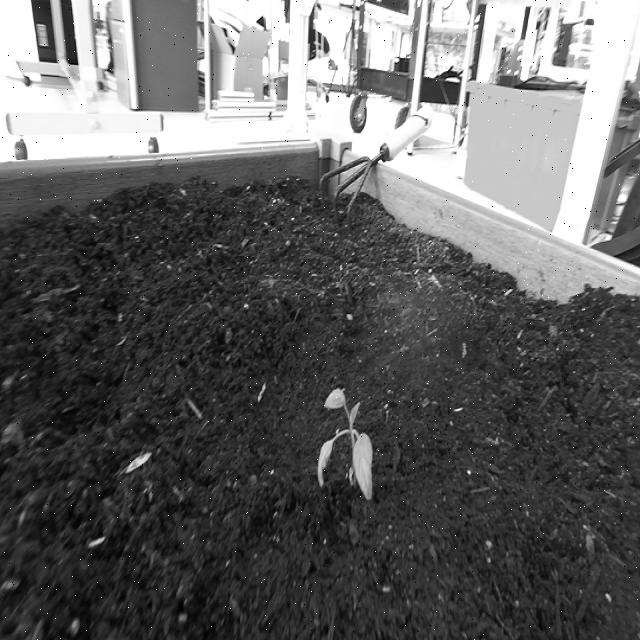Healthy: (315, 381, 380, 515)
